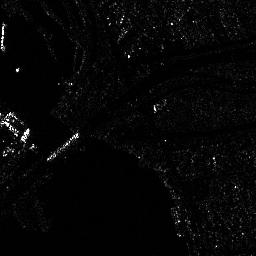ship: (46, 131, 79, 161)
